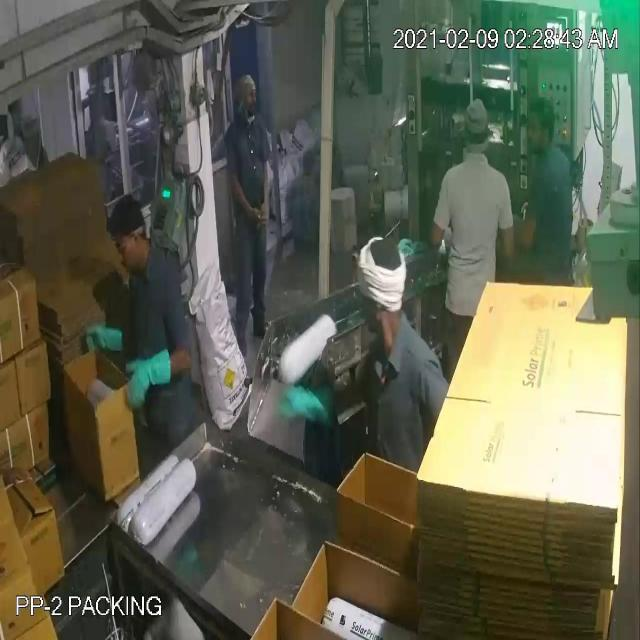Gloves: (17, 48, 314, 408)
